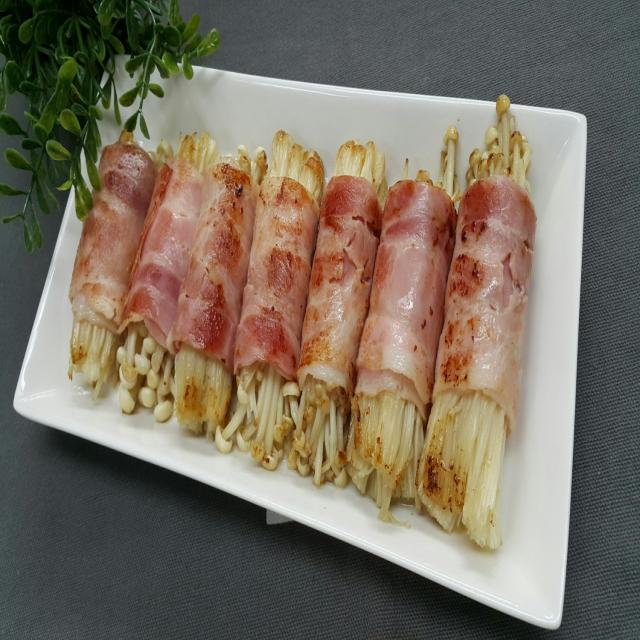Bacon Slice: (289, 177, 460, 402), (172, 157, 320, 380), (433, 174, 538, 432), (68, 140, 200, 344)
